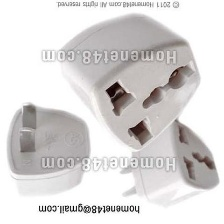three_eye_plug: (52, 7, 205, 158), (115, 112, 221, 217), (4, 101, 92, 203)
